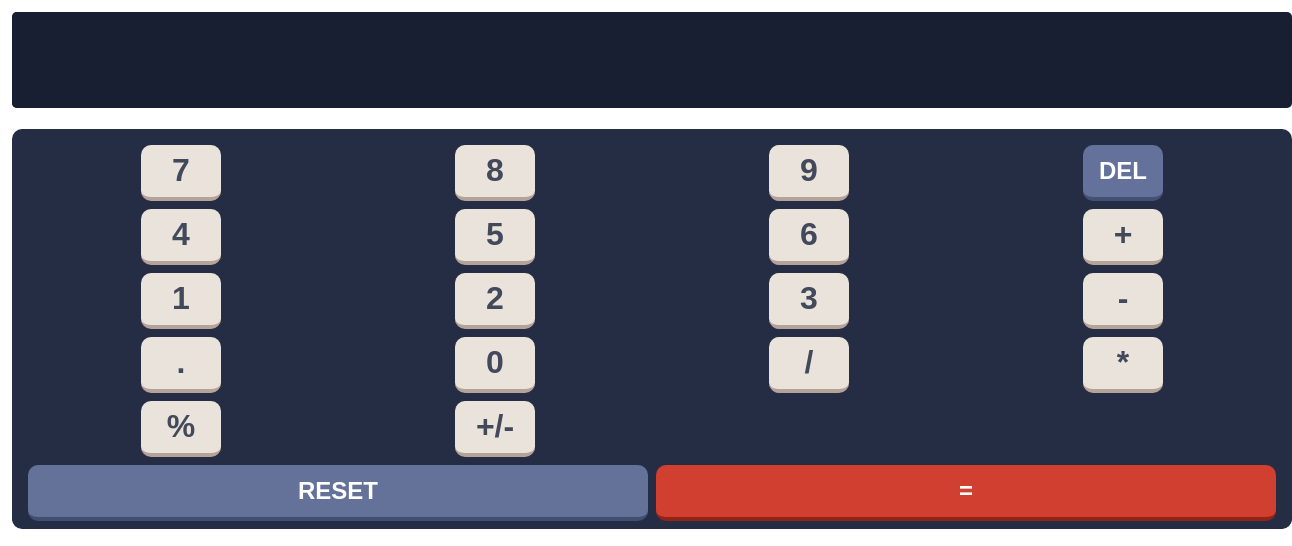
Test: Test for the diffetent actions to calculator components › negate a number
Click the button "7".
click(181, 173)  # box [141,145,221,201]
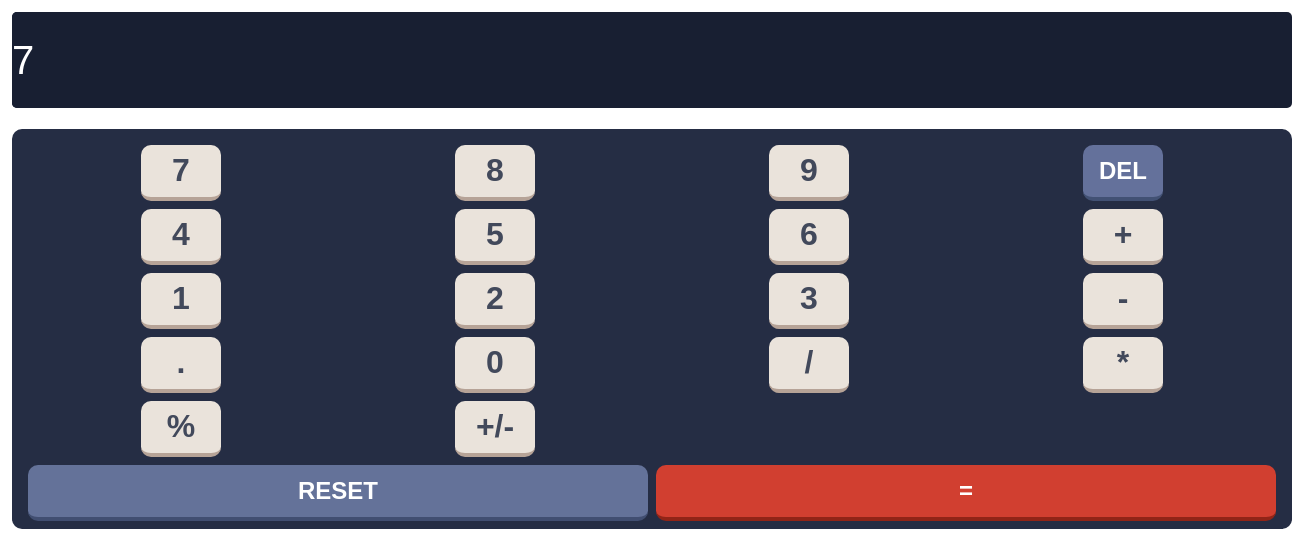
Click the button "+/-".
click(495, 429)  # box [455,401,535,457]
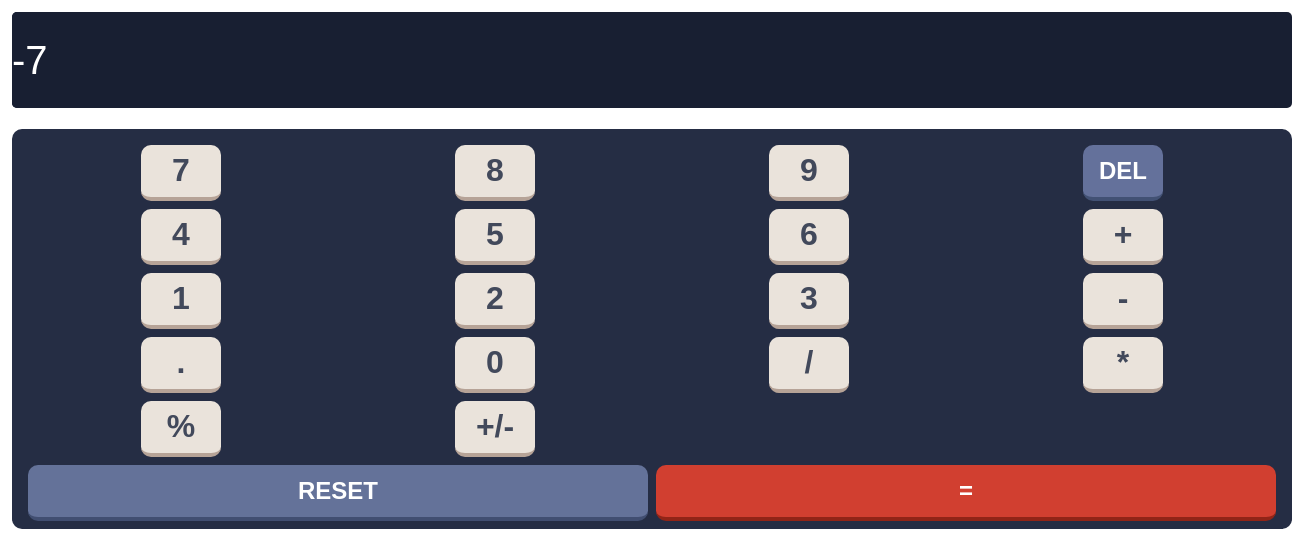
Check: the field holds "-7", box [12,12,1276,108]
